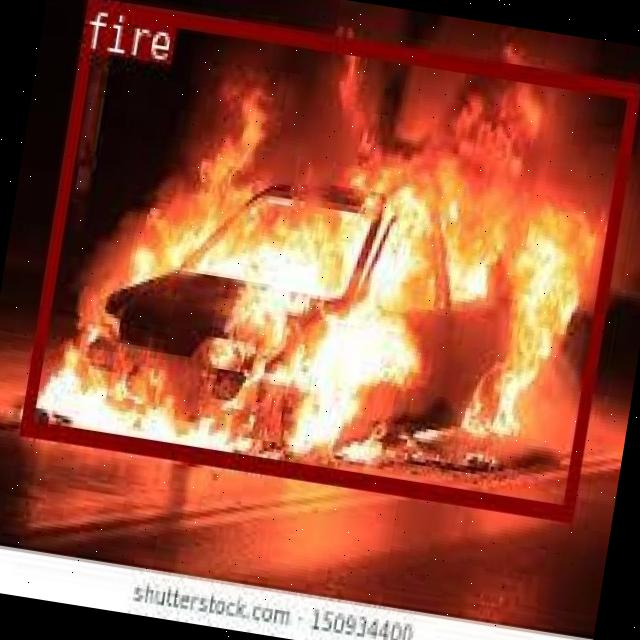fire: (20, 0, 637, 517)
